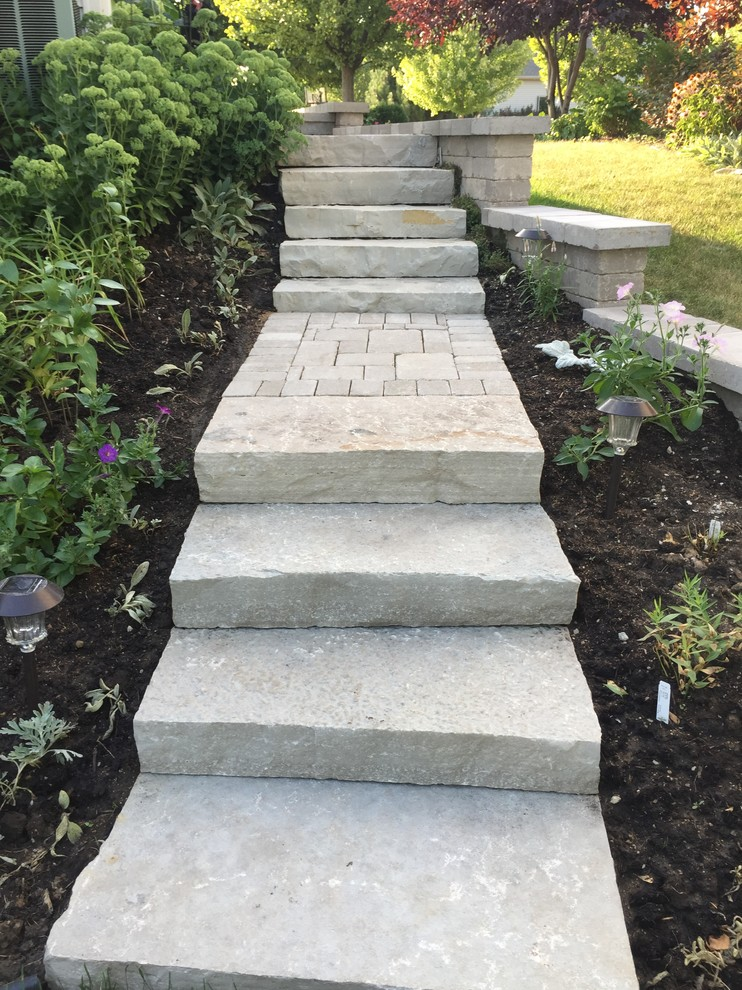upstairs: (205, 437, 535, 990)
